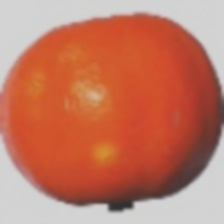tangerine: (23, 48, 224, 182)
